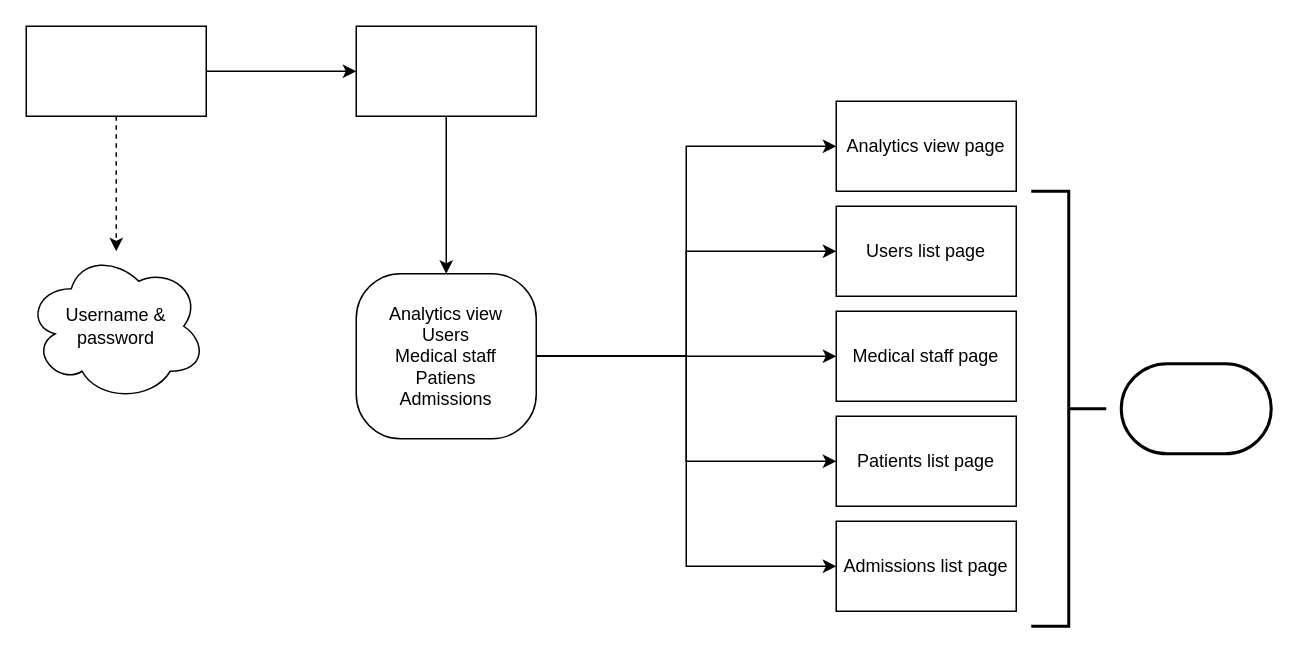
This 1299x654 diagram has some shape labels left out. Each missing label, with the centre of its shape:
"CRUD" belongs at pixel 1195 408.
"Dashboard" belongs at pixel 445 70.
"Login Page" belongs at pixel 115 70.
